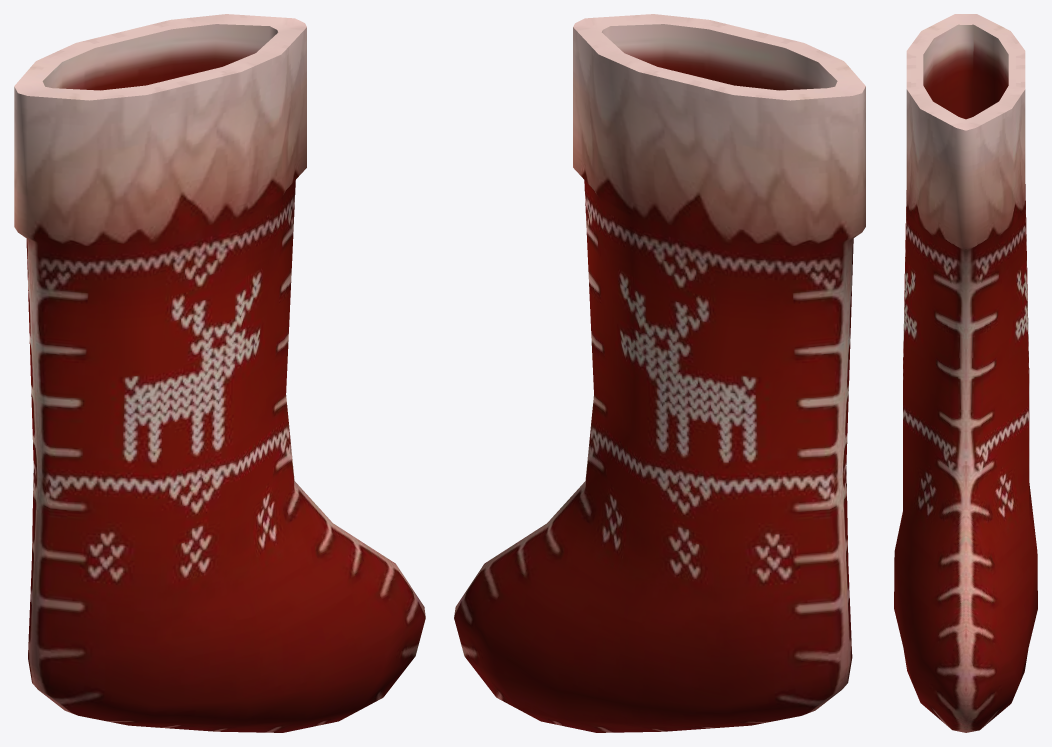
The model's file is sock_2.glb.
The picture shows the model from 3 angles, left to right: view 1: azimuth 30°, elevation 25°; view 2: azimuth 150°, elevation 25°; view 3: azimuth 270°, elevation 25°; orthographic projection. The views are drawn at different scales.
Parts seen in each view (by area): view 1: sock_2; view 2: sock_2; view 3: sock_2.
Boxes of the visible parts, <box> form: sock_2: <box>14,14,425,732</box>; sock_2: <box>454,14,865,732</box>; sock_2: <box>894,14,1037,732</box>.
Bounding box in the file's own units: 0.312 × 0.5166 × 0.1149.
Materials: 1 (1 with a texture image).
